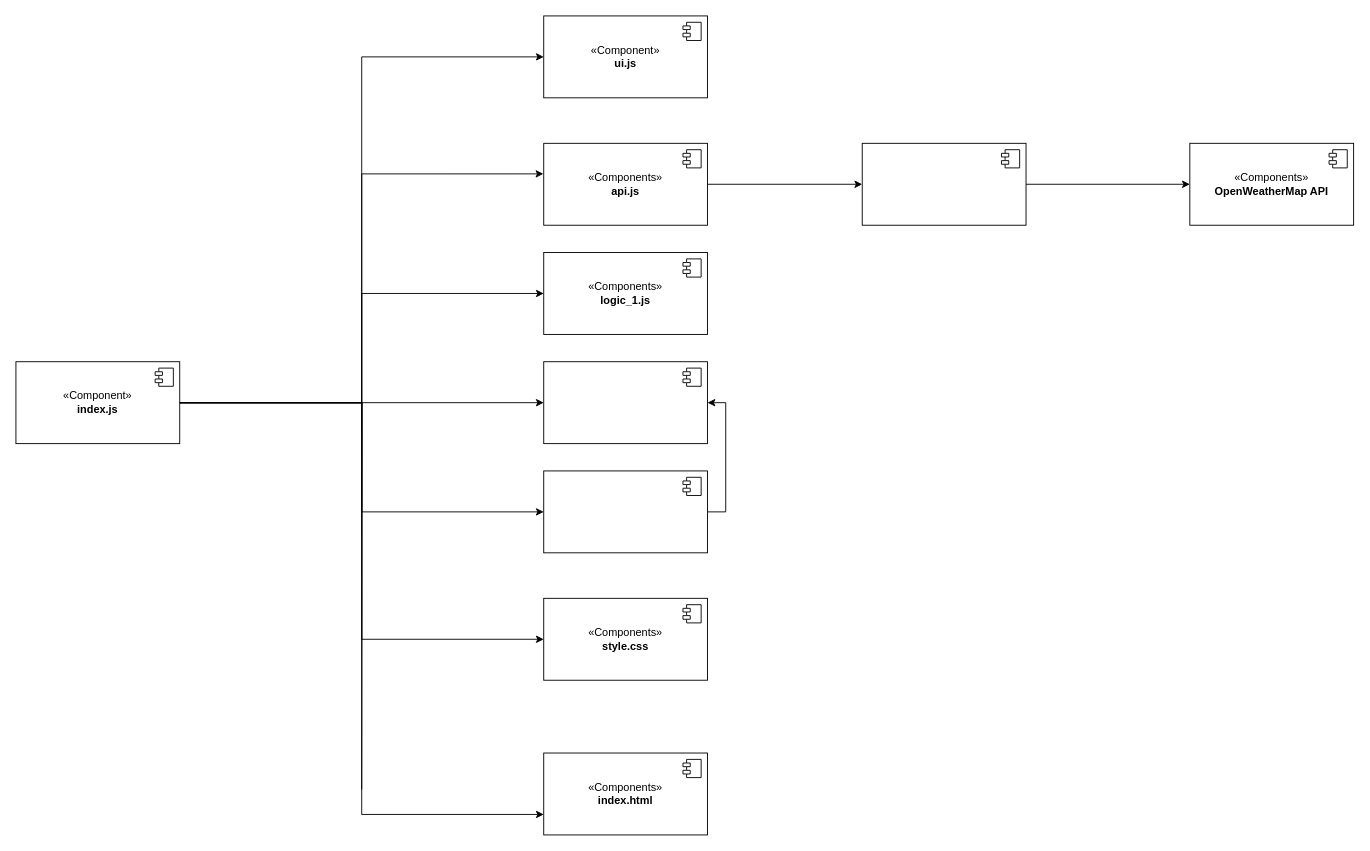
Image size: 1370x851. Some labels were removed from this diagram. The shapes that lost their labels are listed below. From the top down, each one's centre as x and y in pixels, then its label:
the point at 943,183: «Components» config.js
the point at 625,402: «Components» logic_2.js
the point at 625,511: «Components» logic_3.js
